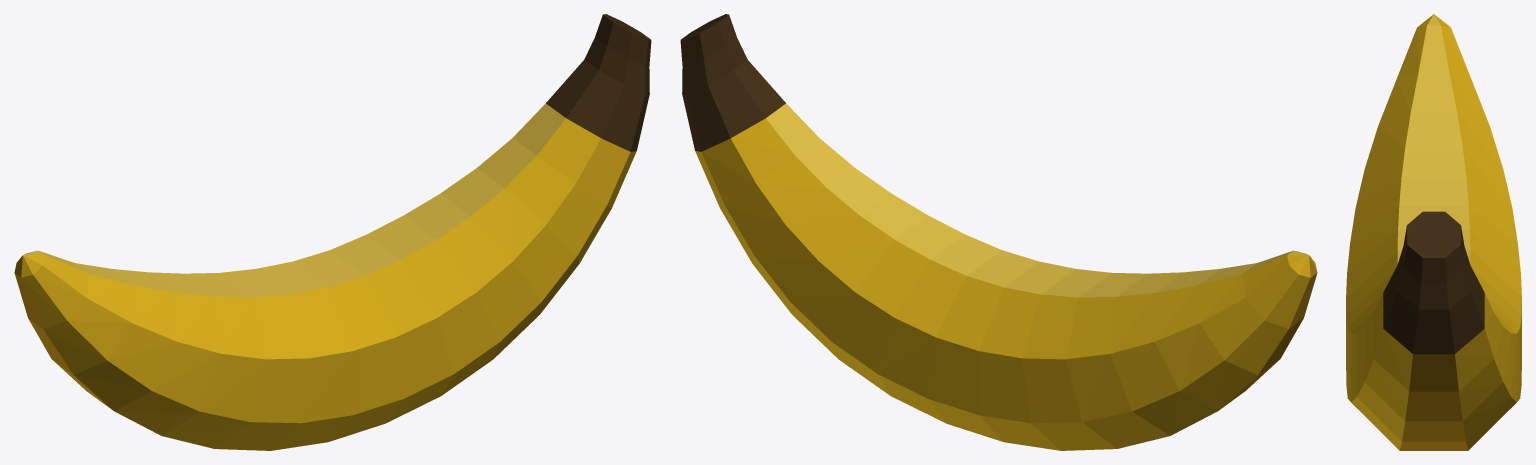
Rendered from banana-09c206.glb.
The picture shows the model from 3 angles, left to right: view 1: azimuth 30°, elevation 25°; view 2: azimuth 150°, elevation 25°; view 3: azimuth 270°, elevation 25°; orthographic projection. The views are drawn at different scales.
Parts seen in each view (by area): view 1: banana; view 2: banana; view 3: banana.
Part boxes in pixels (x1=…): banana: x1=14, y1=14, x2=651, y2=450; banana: x1=680, y1=14, x2=1317, y2=450; banana: x1=1346, y1=14, x2=1521, y2=450.
Size of the model in its own units: 0.204 by 0.1049 by 0.048.
